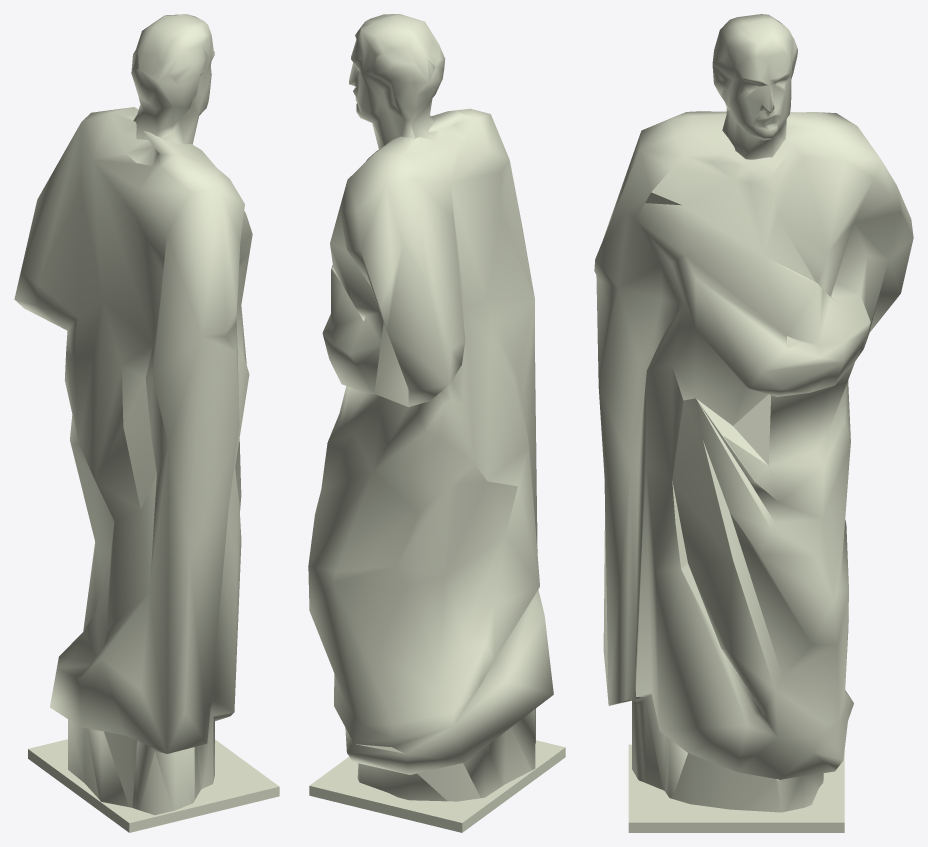
The model's file is man.fbx.
3 views of the same model, side by side, from view 1: azimuth 30°, elevation 25°; view 2: azimuth 150°, elevation 25°; view 3: azimuth 270°, elevation 25° (orthographic). The views are drawn at different scales.
Parts seen in each view (by area): view 1: skp68_1_1; view 2: skp68_1_1; view 3: skp68_1_1.
Boxes of the visible parts, x1,y1,x2,y2 form: skp68_1_1: (14,14,279,832); skp68_1_1: (308,14,565,832); skp68_1_1: (594,14,913,832).
Size of the model in its own units: 405 by 1563 by 572.
